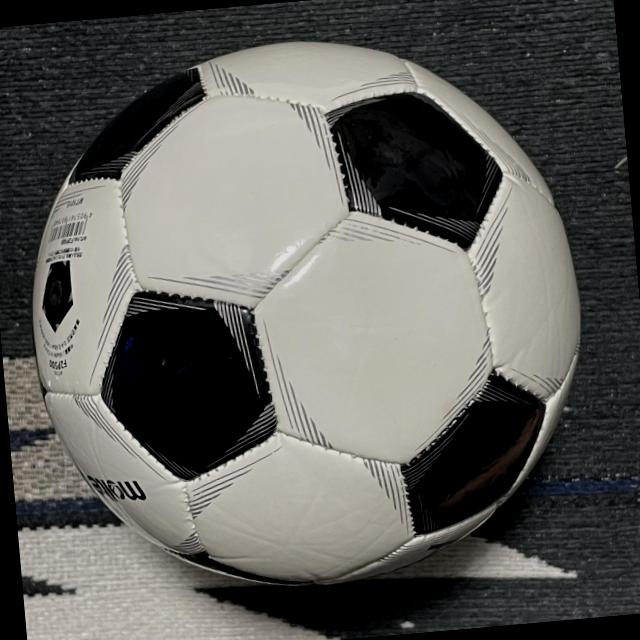Soccer Ball: (14, 19, 602, 607)
